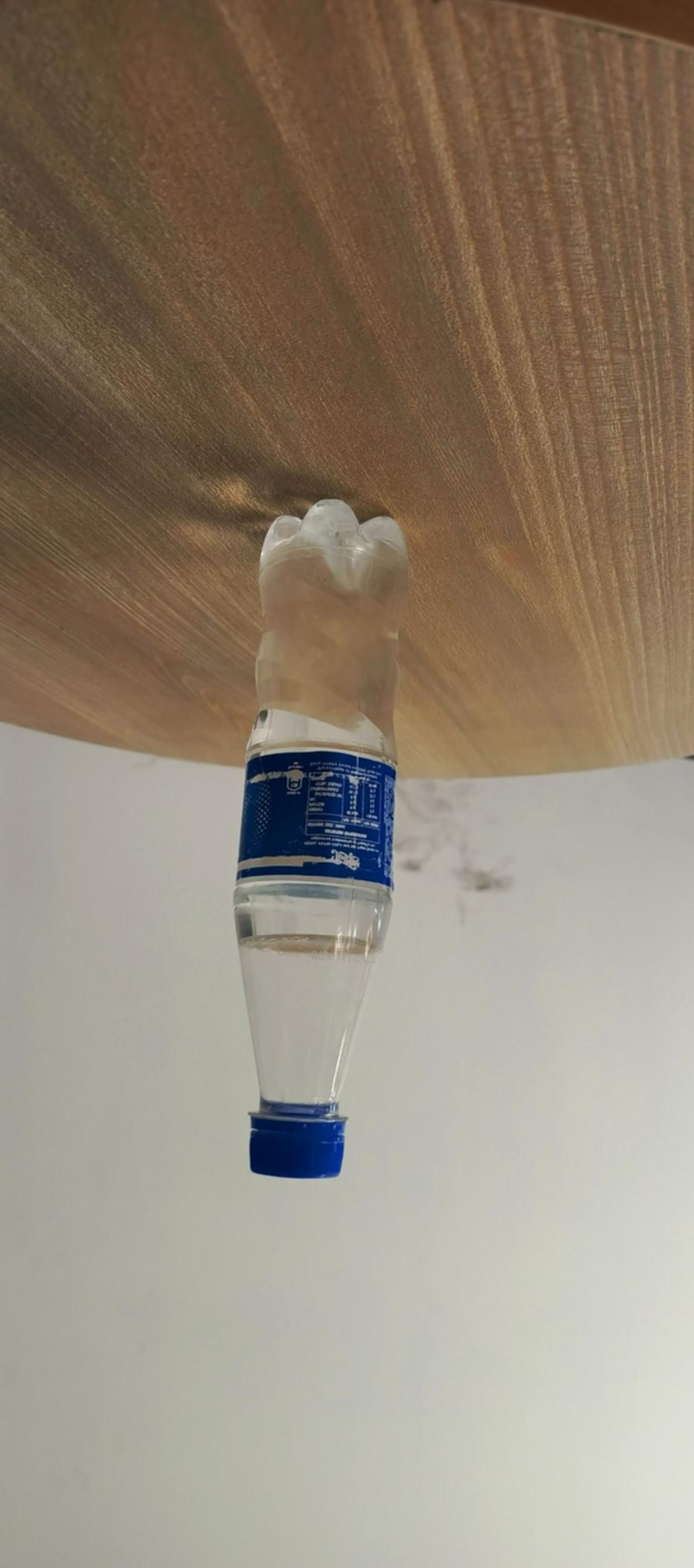Pepsi Bottle: (222, 465, 454, 1184), (222, 498, 432, 1184)
